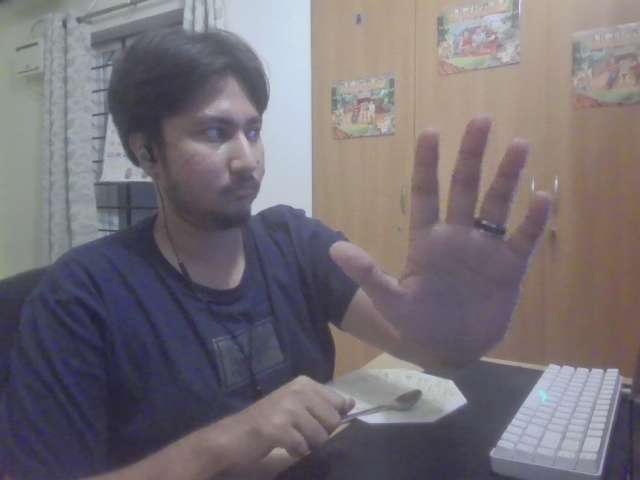hello: (328, 112, 557, 361)
